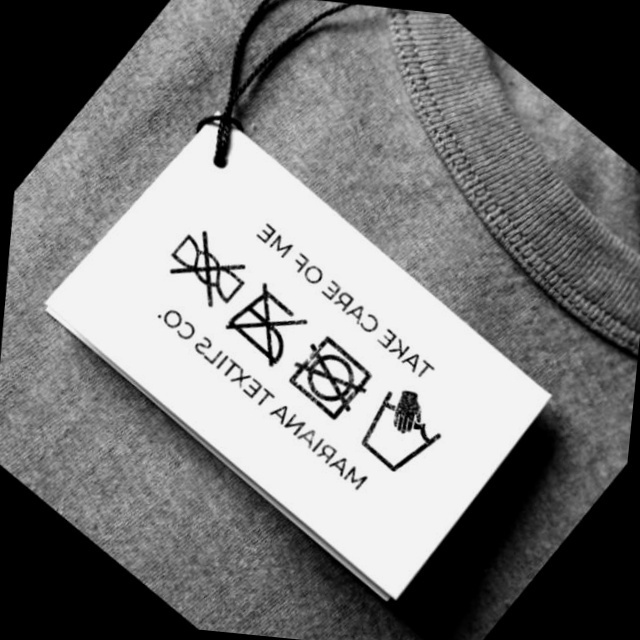DN_iron: (227, 281, 307, 367)
DN_tumble_dry: (291, 333, 377, 418)
DN_wring: (165, 226, 250, 306)
hand_wash: (358, 384, 447, 481)
